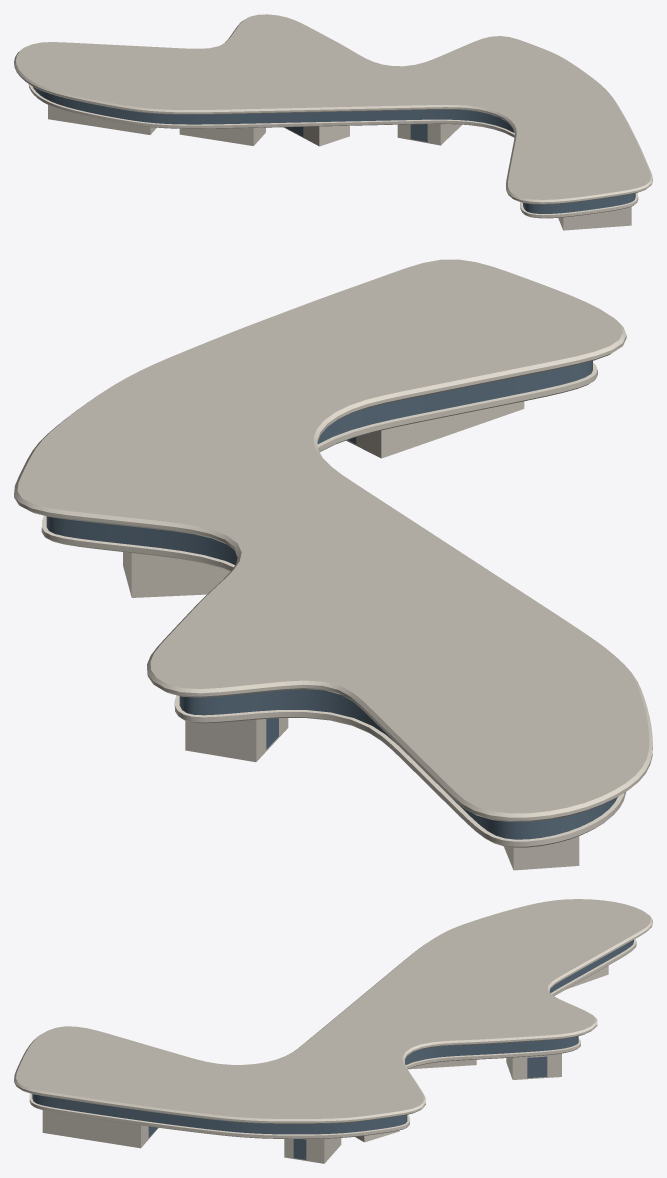
File: la-lacma-geffen.glb
The picture shows the model from 3 angles, top to bottom: view 1: azimuth 30°, elevation 25°; view 2: azimuth 150°, elevation 25°; view 3: azimuth 270°, elevation 25°; orthographic projection. The views are drawn at different scales.
Visible parts, largest first — view 1: LACMA David Geffen Galleries; view 2: LACMA David Geffen Galleries; view 3: LACMA David Geffen Galleries.
Boxes of the visible parts, x1,y1,x2,y2 form: LACMA David Geffen Galleries: (14, 14, 652, 230); LACMA David Geffen Galleries: (14, 259, 652, 870); LACMA David Geffen Galleries: (14, 899, 652, 1163).
Size of the model in its own units: 182 by 19.7 by 222.
